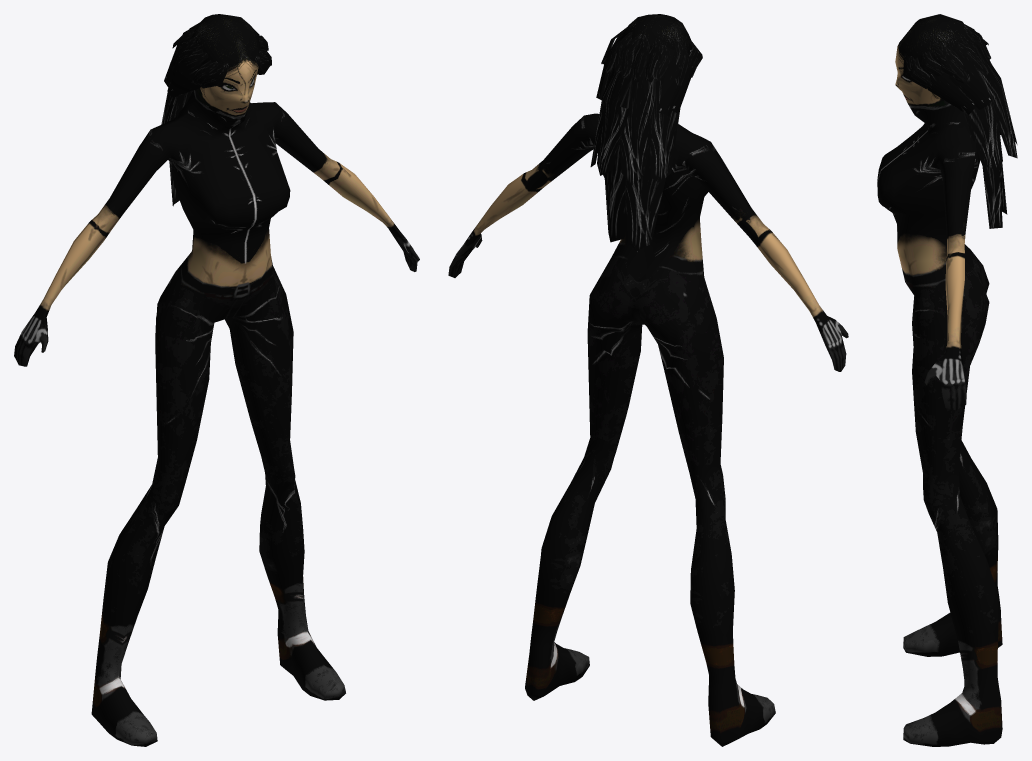
Rendered from ws_Assassin_fin.fbx.
3 views of the same model, side by side, from view 1: azimuth 30°, elevation 25°; view 2: azimuth 150°, elevation 25°; view 3: azimuth 270°, elevation 25° (orthographic). The views are drawn at different scales.
Parts seen in each view (by area): view 1: assassin; view 2: assassin; view 3: assassin.
Boxes of the visible parts, x1,y1,x2,y2 form: assassin: [14, 14, 419, 746]; assassin: [448, 14, 848, 746]; assassin: [877, 14, 1017, 746].
Size of the model in its own units: 95.12 by 161 by 30.07.
